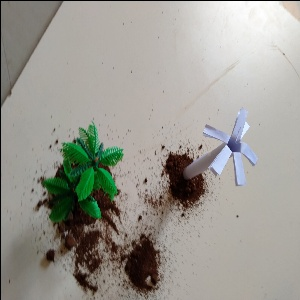plant: (45, 130, 118, 228)
weed: (186, 113, 261, 188)
